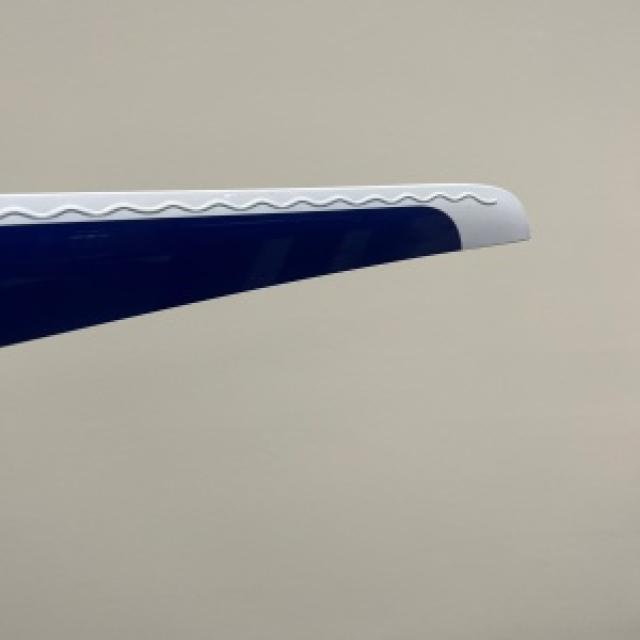healthy: (0, 183, 525, 343)
